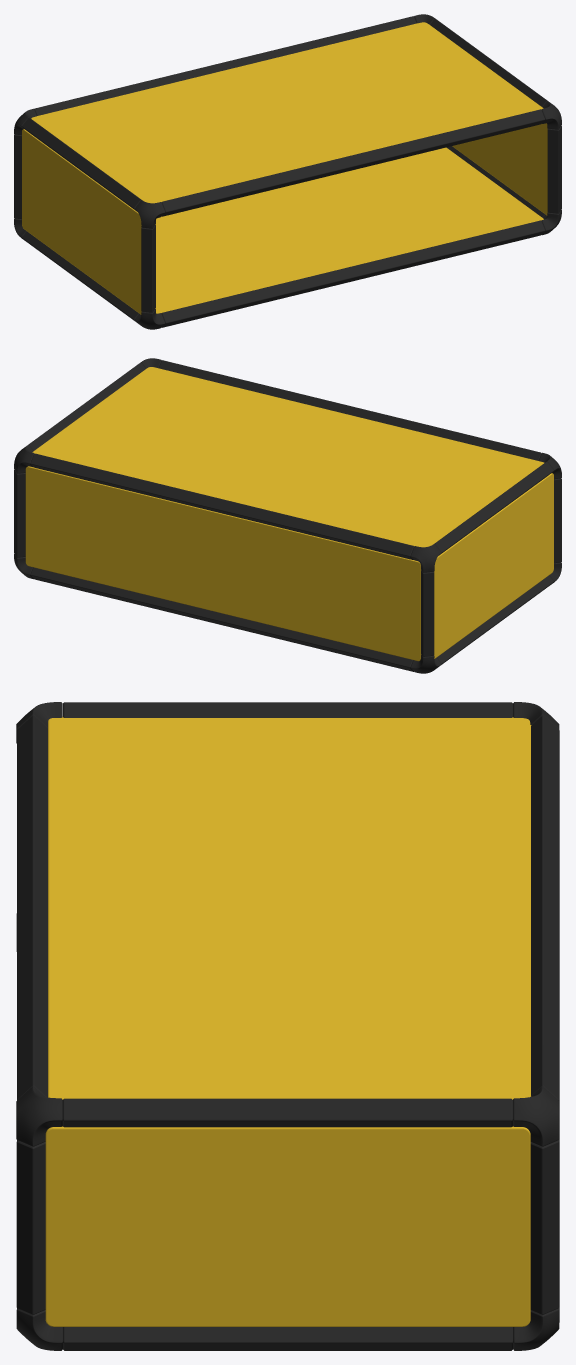
3 renders of one model, top to bottom at view 1: azimuth 30°, elevation 25°; view 2: azimuth 150°, elevation 25°; view 3: azimuth 270°, elevation 25°, orthographic. The views are drawn at different scales.
Visible parts, largest first — view 1: 729x374x154; view 2: 729x374x154; view 3: 729x374x154.
Part boxes in pixels (box(x1,y1,x2,y2)): 729x374x154: box(14, 14, 561, 329); 729x374x154: box(14, 358, 561, 673); 729x374x154: box(16, 702, 559, 1350).
Bounding box in the file's own units: 0.8067 × 0.2316 × 0.4513.
